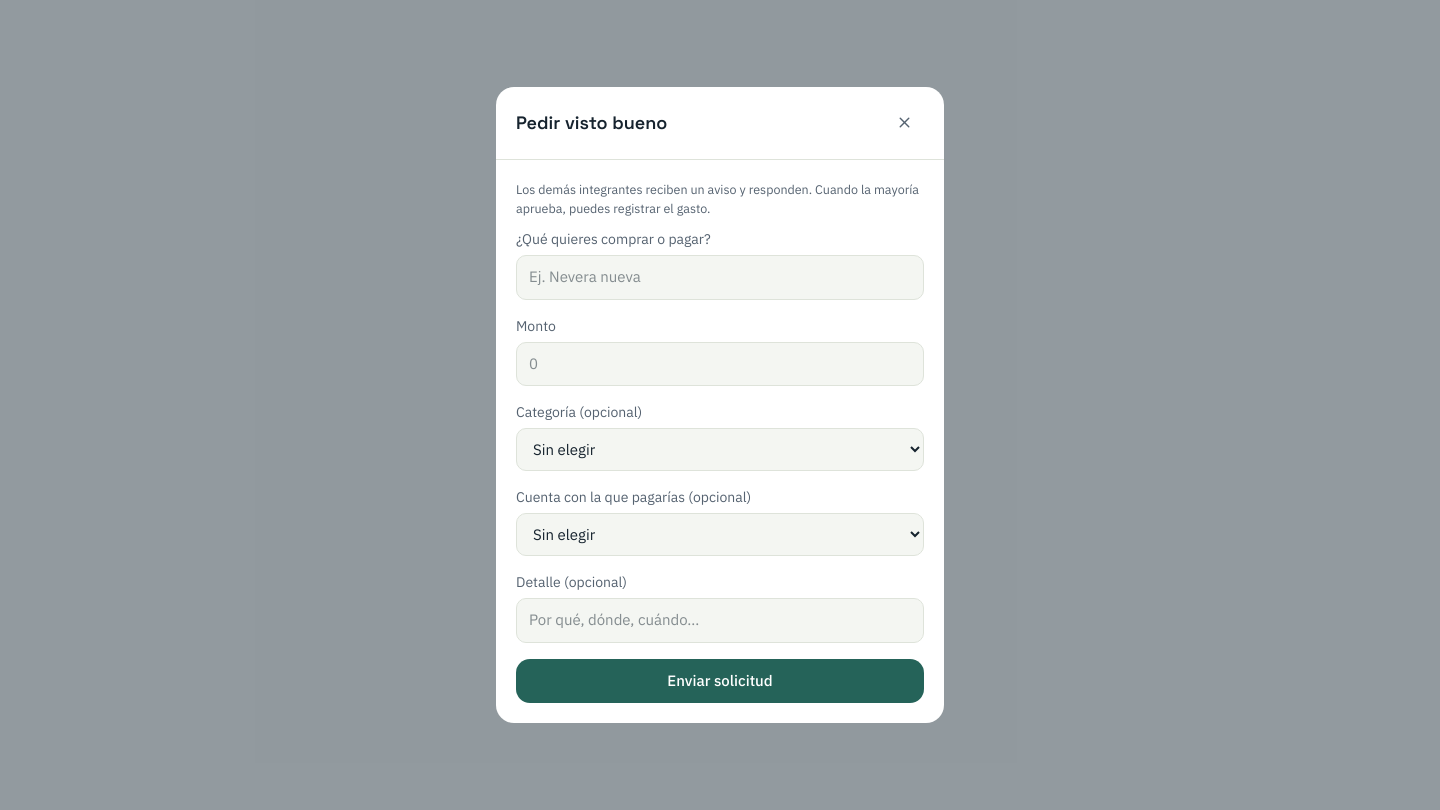
Test: SpendRequestModal › pide título y monto antes de enviar
What coordinates should you click on to do the following:
click the button "Enviar solicitud"
I would click on:
 (720, 681)
Its box is [516,659,924,703].
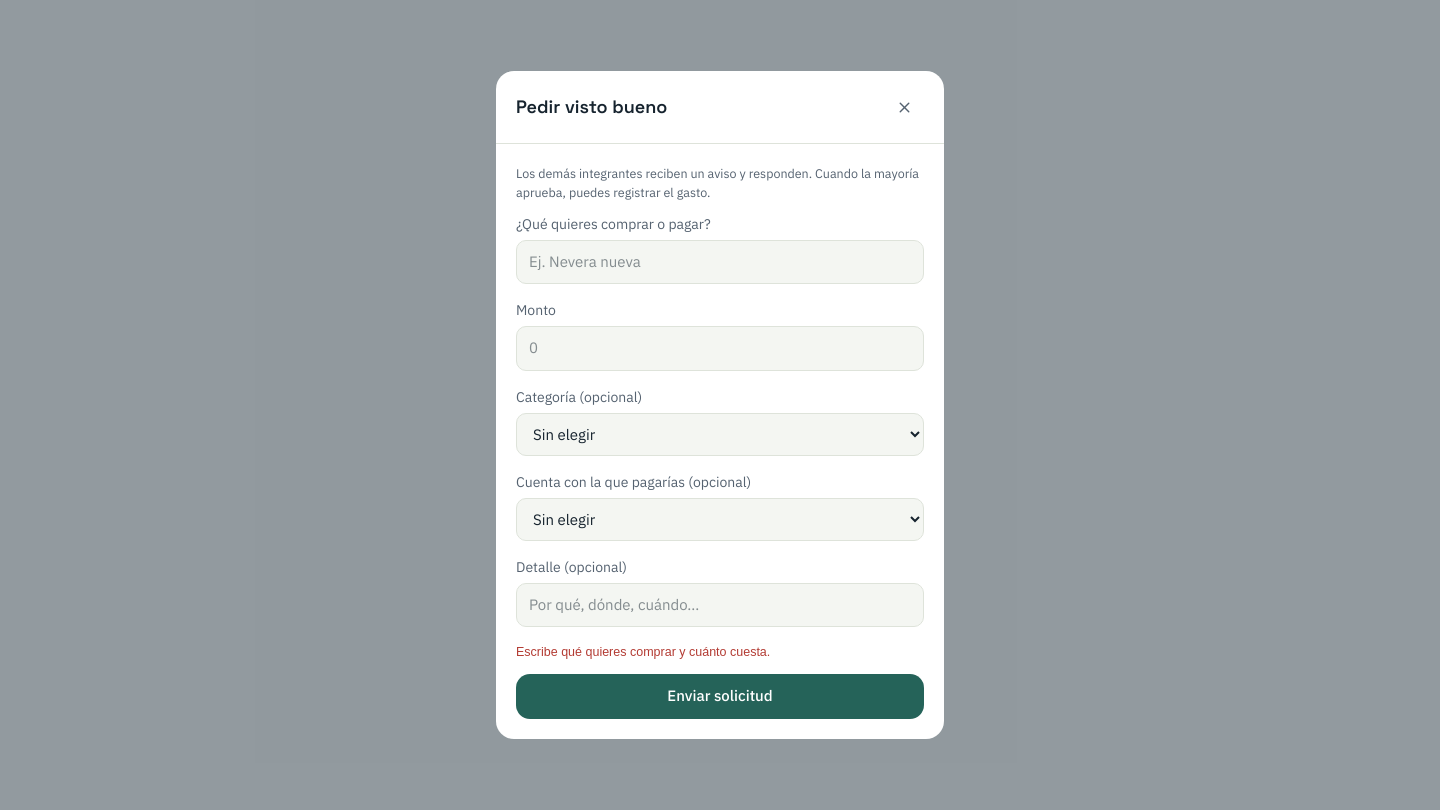
Now the text "Escribe qué quieres comprar y cuánto cuesta." is shown, box [516,645,770,659]
